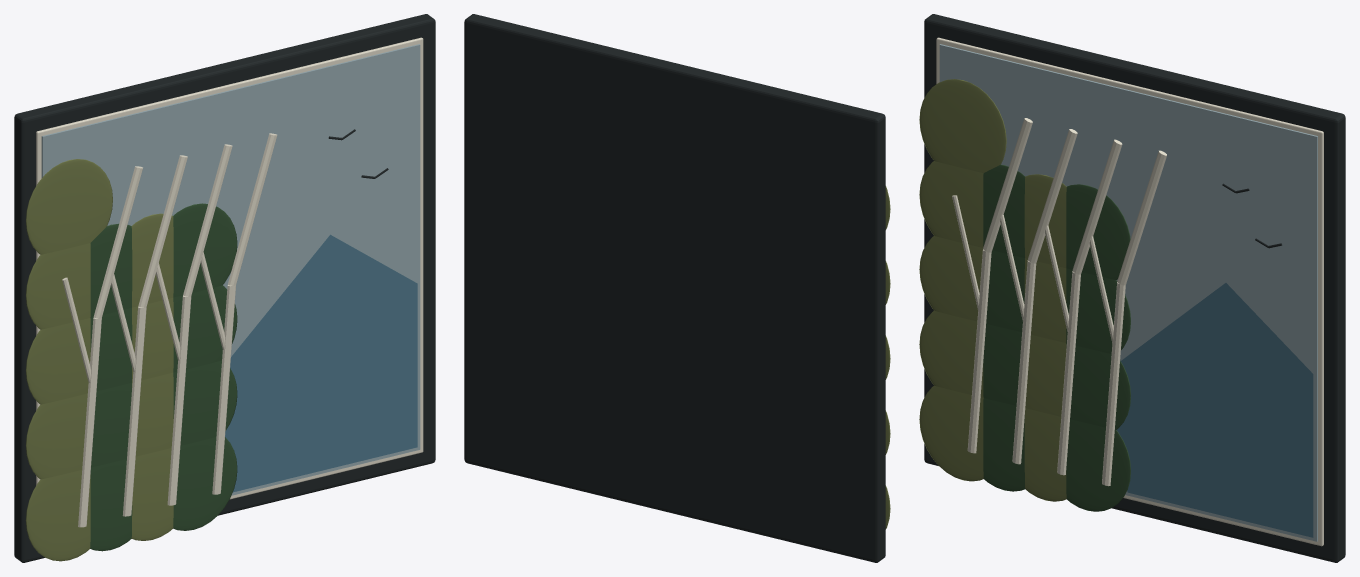
Rendered from forest-frame.glb.
The picture shows the model from 3 angles, left to right: view 1: azimuth 30°, elevation 25°; view 2: azimuth 150°, elevation 25°; view 3: azimuth 330°, elevation 25°; orthographic projection.
Parts seen in each view (by area): view 1: forest-frame; view 2: forest-frame; view 3: forest-frame.
Boxes of the visible parts, bbox=[...] form: forest-frame: bbox=[14, 14, 435, 562]; forest-frame: bbox=[464, 14, 890, 562]; forest-frame: bbox=[919, 14, 1345, 562].
Bounding box in the file's own units: 0.38 × 0.3925 × 0.025.
